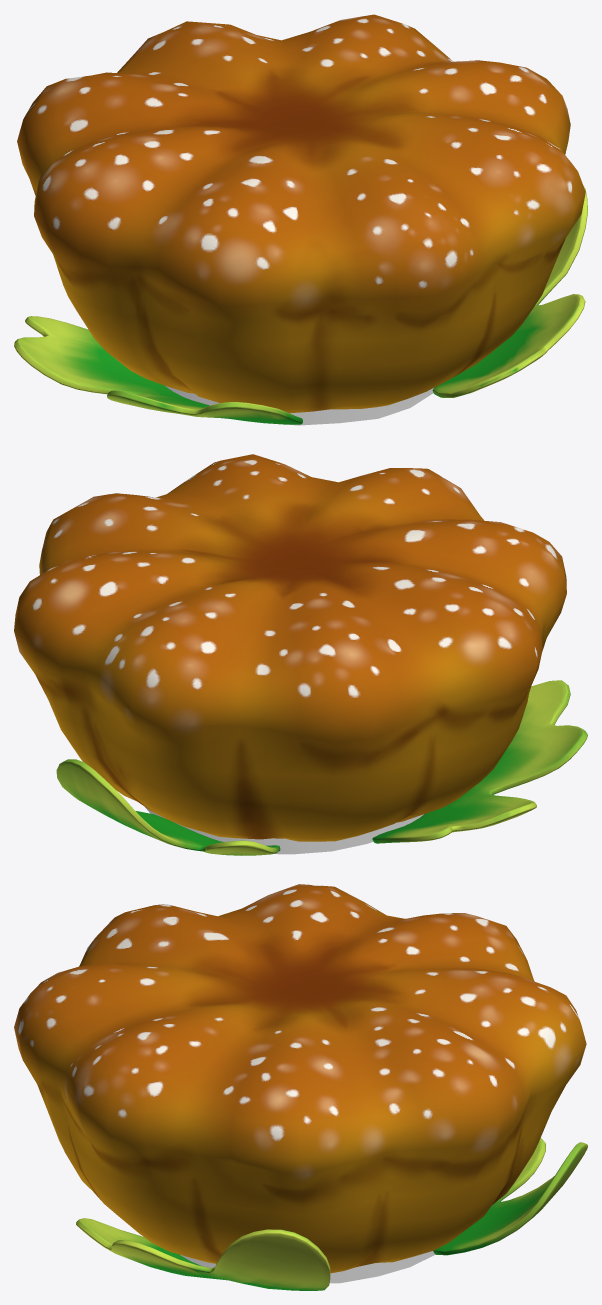
File: plant_trampoline_CORRECTIONS.fbx
3 renders of one model, top to bottom at view 1: azimuth 30°, elevation 25°; view 2: azimuth 150°, elevation 25°; view 3: azimuth 270°, elevation 25°, orthographic. The views are drawn at different scales.
Parts seen in each view (by area): view 1: original_brioche, original_brioche_leaf2, original_brioche_leaf, terre_pot_fixe; view 2: original_brioche, original_brioche_leaf2, original_brioche_leaf3, terre_pot_fixe; view 3: original_brioche, original_brioche_leaf, original_brioche_leaf3, terre_pot_fixe.
Part boxes in pixels (box(x1,y1,x2,y2)): original_brioche: box(17, 14, 585, 413); original_brioche_leaf2: box(14, 316, 302, 424); original_brioche_leaf: box(432, 187, 587, 397); terre_pot_fixe: box(165, 386, 433, 425); original_brioche: box(14, 454, 566, 841); original_brioche_leaf2: box(372, 680, 587, 843); original_brioche_leaf3: box(56, 759, 280, 855); terre_pot_fixe: box(145, 807, 423, 854); original_brioche: box(14, 884, 586, 1273); original_brioche_leaf: box(76, 1218, 330, 1290); original_brioche_leaf3: box(433, 1138, 587, 1255); terre_pot_fixe: box(180, 1251, 434, 1283).
Size of the model in its own units: 176 by 80.35 by 168.
